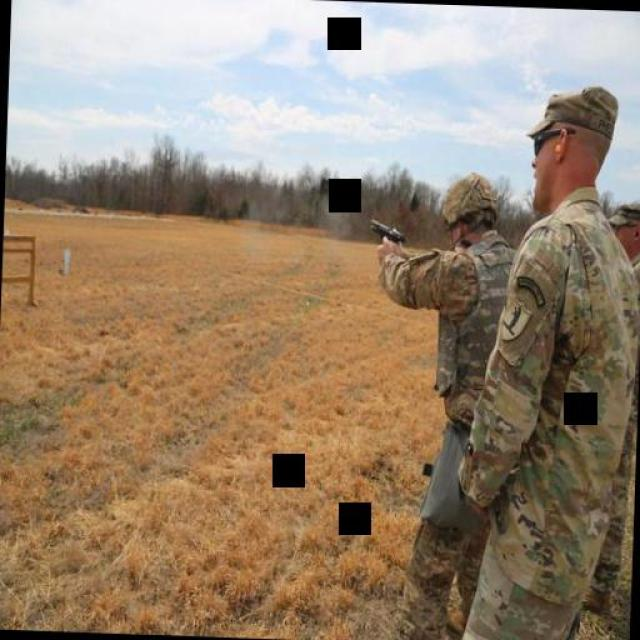gun: (365, 210, 406, 250)
